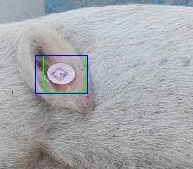text: (43, 55, 85, 92)
